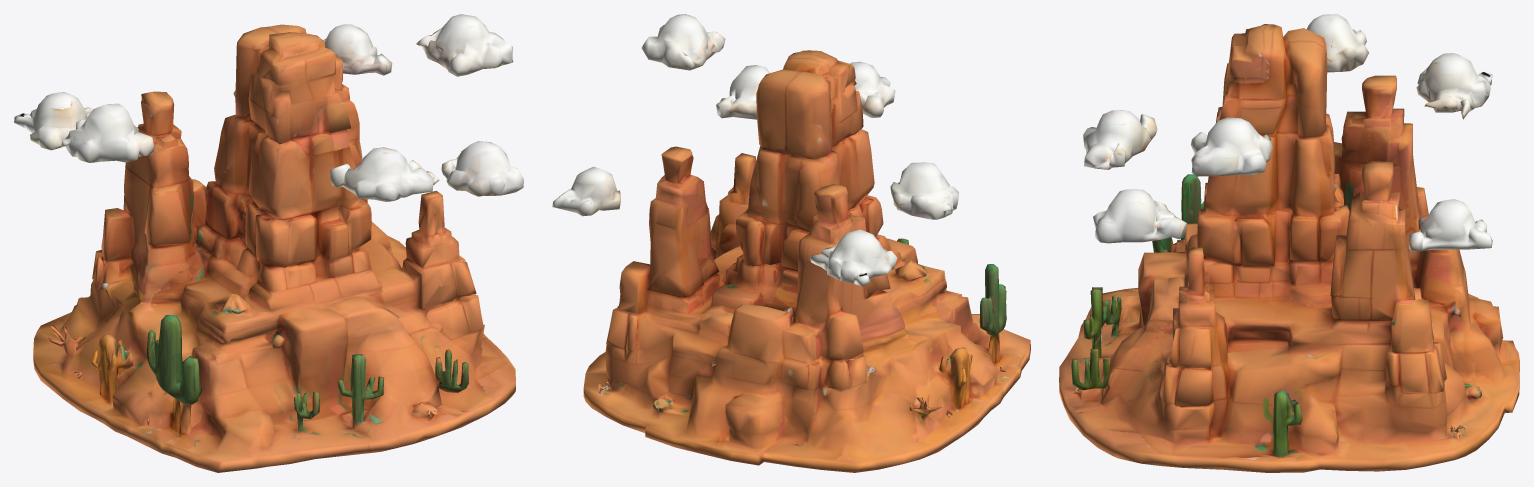
Rendered from canion3.glb.
3 renders of one model, left to right at view 1: azimuth 30°, elevation 25°; view 2: azimuth 150°, elevation 25°; view 3: azimuth 270°, elevation 25°, orthographic. The views are drawn at different scales.
Size of the model in its own units: 1.98 by 1.68 by 2.
Materials: 1 (1 with a texture image).
